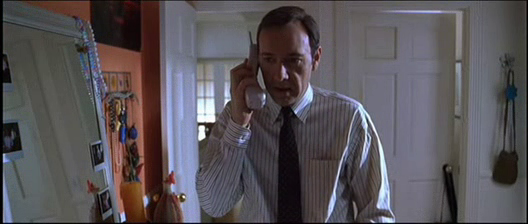face: (258, 41, 310, 105)
ms: (1, 1, 528, 224)
person: (194, 6, 396, 223)
